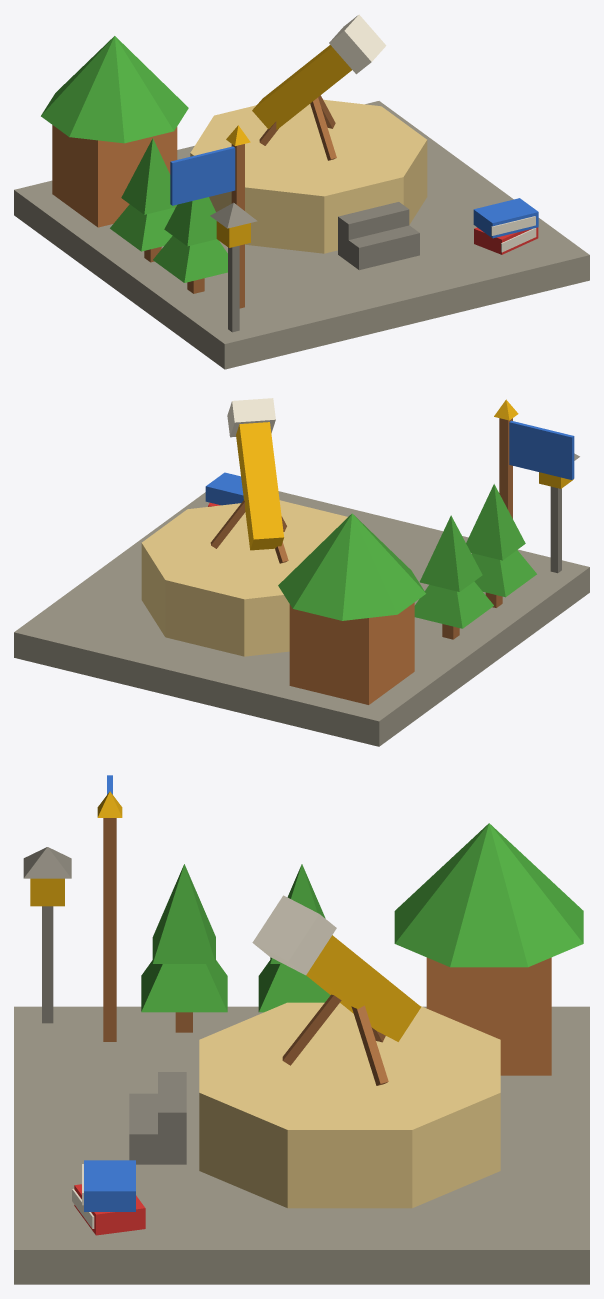
File: observatory_t1_v2.glb
The picture shows the model from 3 angles, top to bottom: view 1: azimuth 30°, elevation 25°; view 2: azimuth 150°, elevation 25°; view 3: azimuth 270°, elevation 25°; orthographic projection. The views are drawn at different scales.
Parts seen in each view (by area): view 1: observatory_t1_v2; view 2: observatory_t1_v2; view 3: observatory_t1_v2.
Boxes of the visible parts, box(x1,y1,x2,y2) form: observatory_t1_v2: box(14, 14, 589, 369); observatory_t1_v2: box(14, 398, 589, 746); observatory_t1_v2: box(14, 775, 589, 1284).
Bounding box in the file's own units: 0.63 × 0.3351 × 0.6.
Materials: 1 (1 with a texture image).
